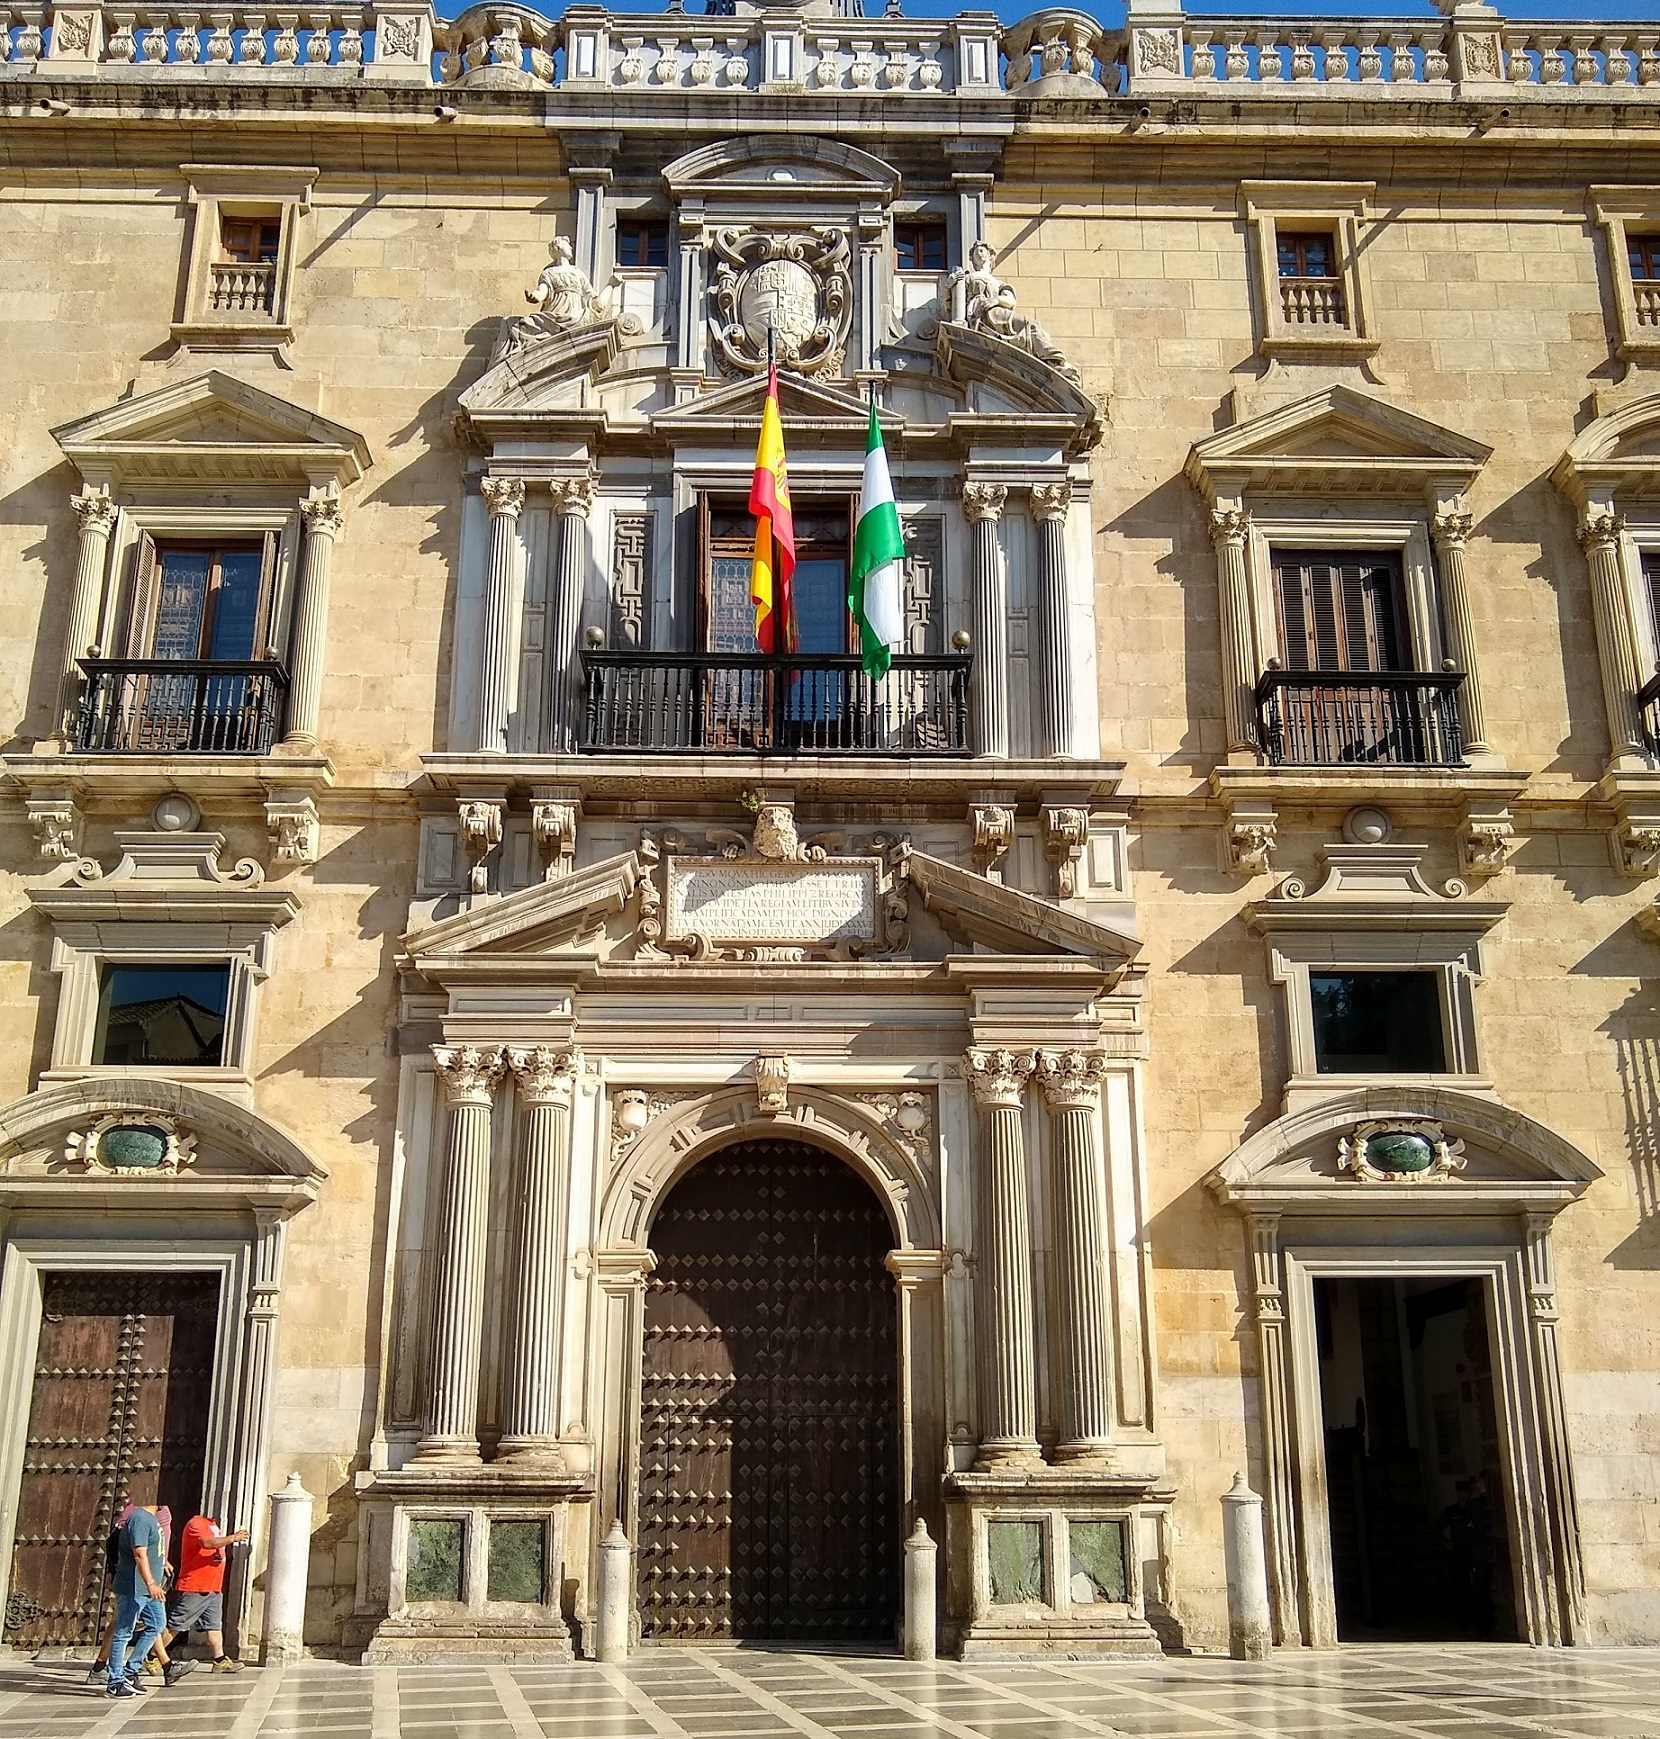arco-medio-punto: (620, 1115, 924, 1309)
fronton: (40, 366, 374, 472), (1182, 377, 1505, 480), (644, 365, 910, 443)
fronton-curvo: (1197, 1079, 1613, 1208), (2, 1073, 332, 1217), (665, 127, 918, 208)
fronton-partido: (390, 835, 1154, 994), (453, 311, 1115, 450)
vano-adintelado: (1276, 1234, 1554, 1650), (2, 1231, 258, 1658), (37, 503, 345, 753), (1203, 509, 1495, 765)
